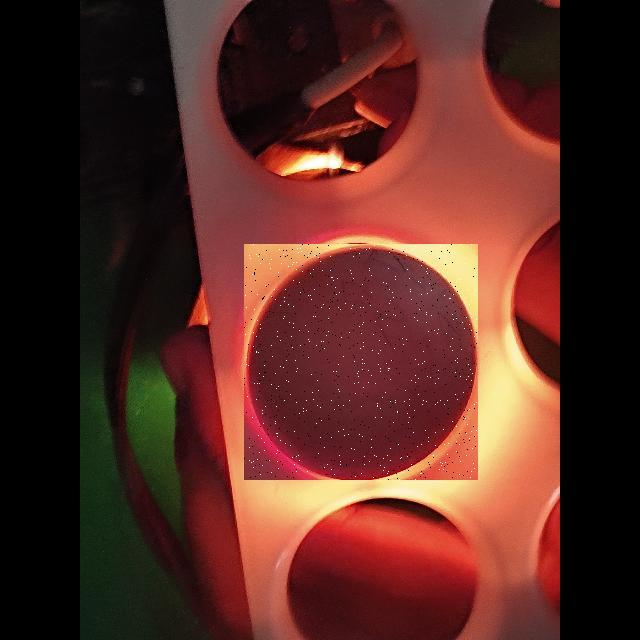B - Fair: (244, 244, 478, 480)
